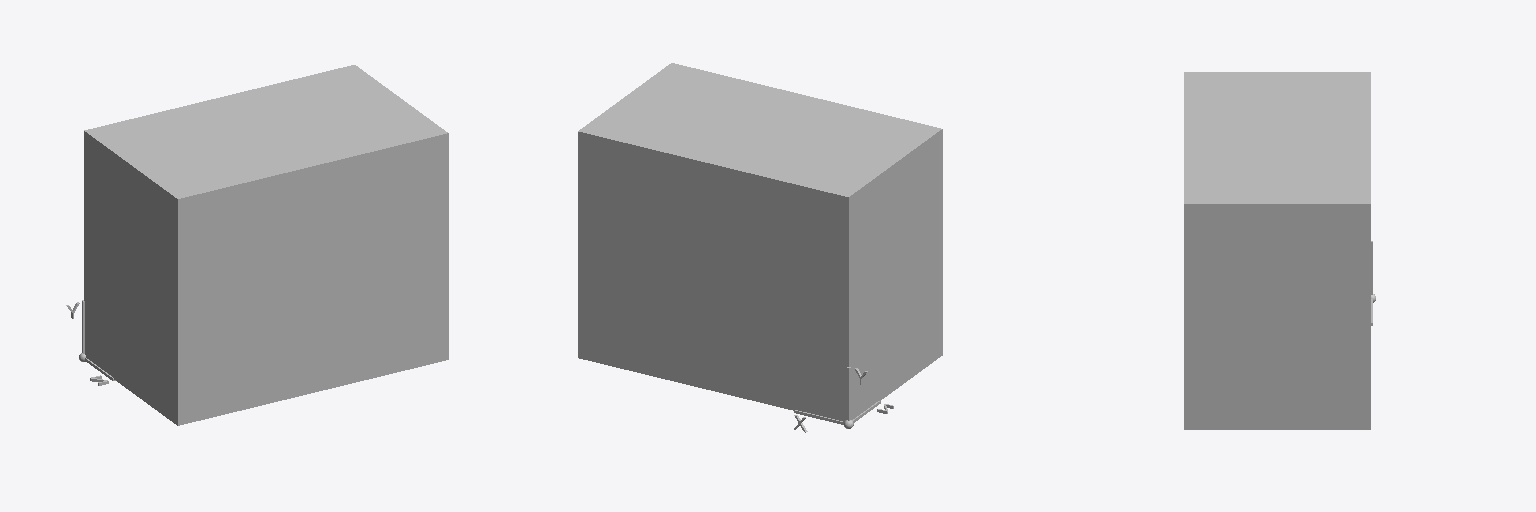
3 renders of one model, left to right at view 1: azimuth 30°, elevation 25°; view 2: azimuth 150°, elevation 25°; view 3: azimuth 270°, elevation 25°, orthographic.
Parts seen in each view (by area): view 1: TO BE DEFINED__Extrusion__4965; view 2: TO BE DEFINED__Extrusion__4965, Generic Models__Coordinate system__Coordinate system__6584:1; view 3: TO BE DEFINED__Extrusion__4965.
Part boxes in pixels (x1,y1,x2,y2): TO BE DEFINED__Extrusion__4965: (84,65,448,425); TO BE DEFINED__Extrusion__4965: (578,63,942,421); Generic Models__Coordinate system__Coordinate system__6584:1: (794,367,880,428); TO BE DEFINED__Extrusion__4965: (1184,72,1370,429).
Size of the model in its own units: 533 by 433 by 308.